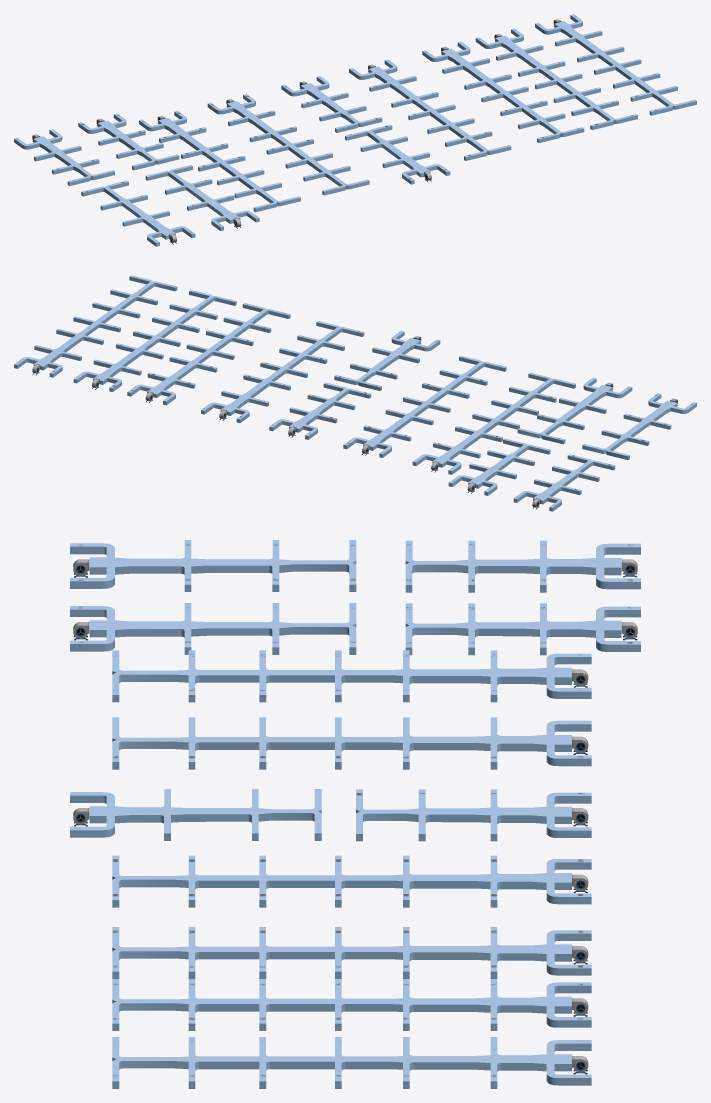
The model's file is LXWZ_2_2F_FG.glb.
3 renders of one model, top to bottom at view 1: azimuth 30°, elevation 25°; view 2: azimuth 150°, elevation 25°; view 3: azimuth 270°, elevation 25°, orthographic. The views are drawn at different scales.
Size of the model in its own units: 78.31 by 1.03 by 34.92.
4 materials, 2 textured.
